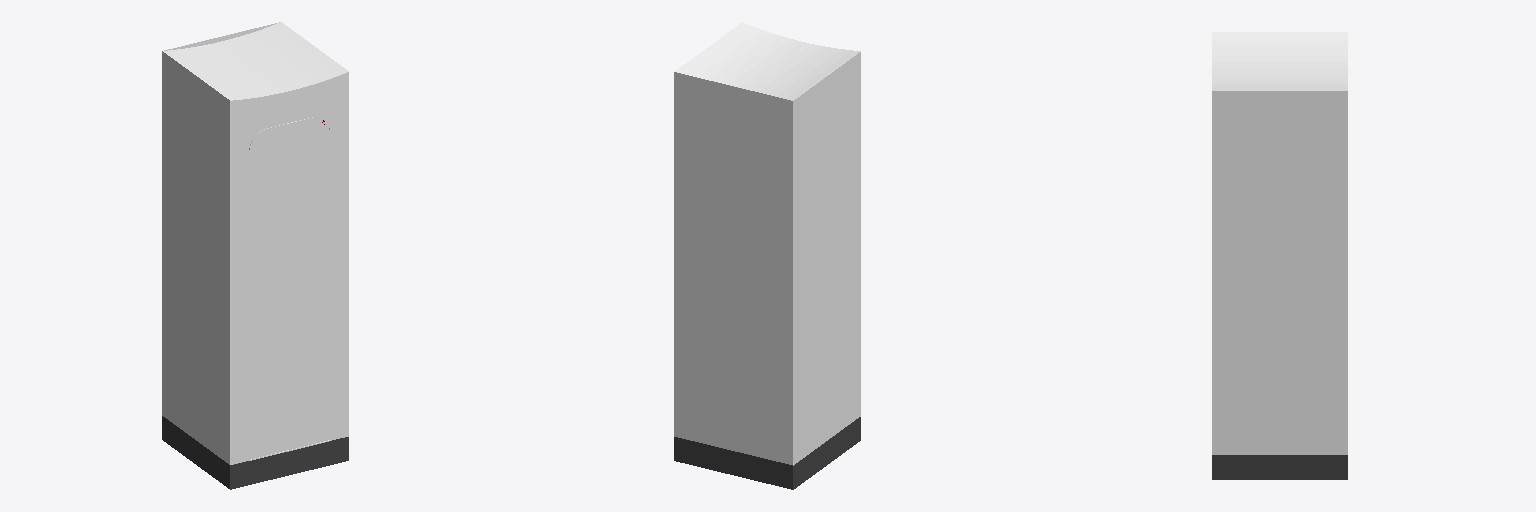
Rendered from Kleiderschrank.obj.
The picture shows the model from 3 angles: view 1: azimuth 30°, elevation 25°; view 2: azimuth 150°, elevation 25°; view 3: azimuth 270°, elevation 25°; orthographic projection.
Parts seen in each view (by area): view 1: Mesh21 Model; view 2: Mesh21 Model; view 3: Mesh21 Model.
Boxes of the visible parts, box(x1,y1,x2,y2) form: Mesh21 Model: box(162, 22, 348, 489); Mesh21 Model: box(674, 22, 860, 489); Mesh21 Model: box(1212, 32, 1347, 479).
Size of the model in its own units: 0.51 by 1.59 by 0.5065.